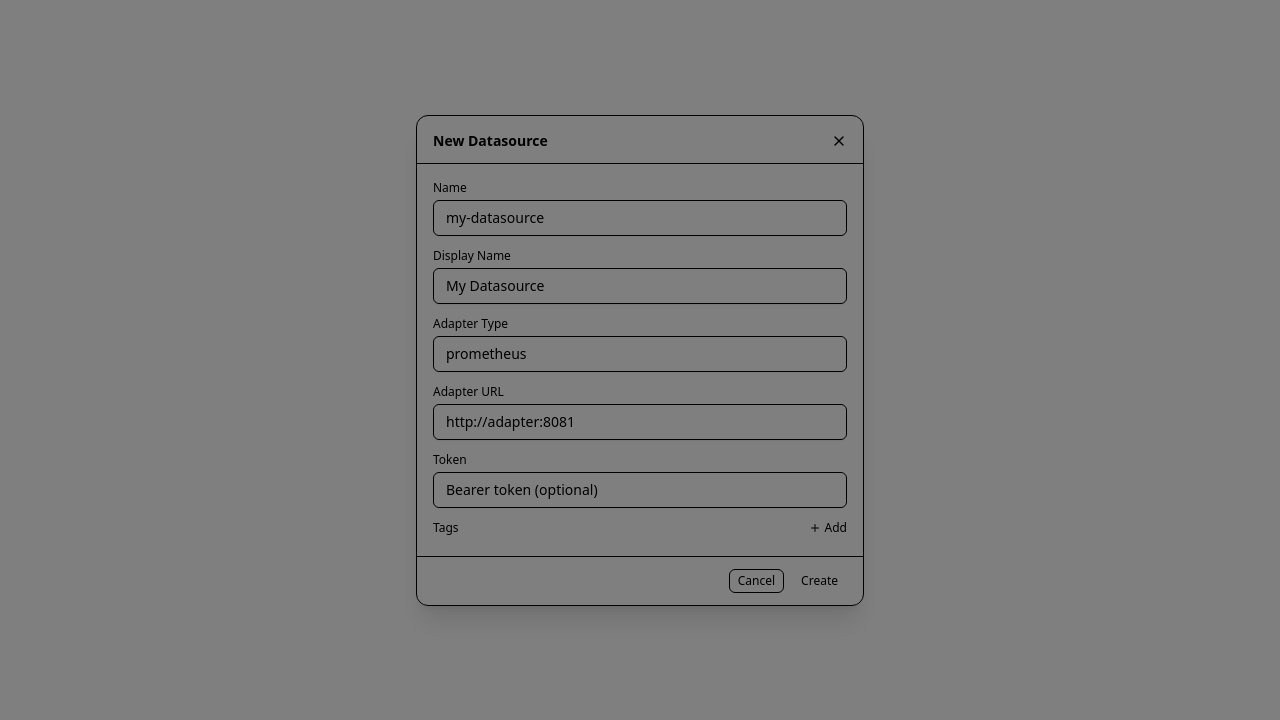
DatasourceForm › shows validation errors for required fields
The width and height of the screenshot is (1280, 720).
Click the button "Create" at (820, 580), box [792,568,847,592]
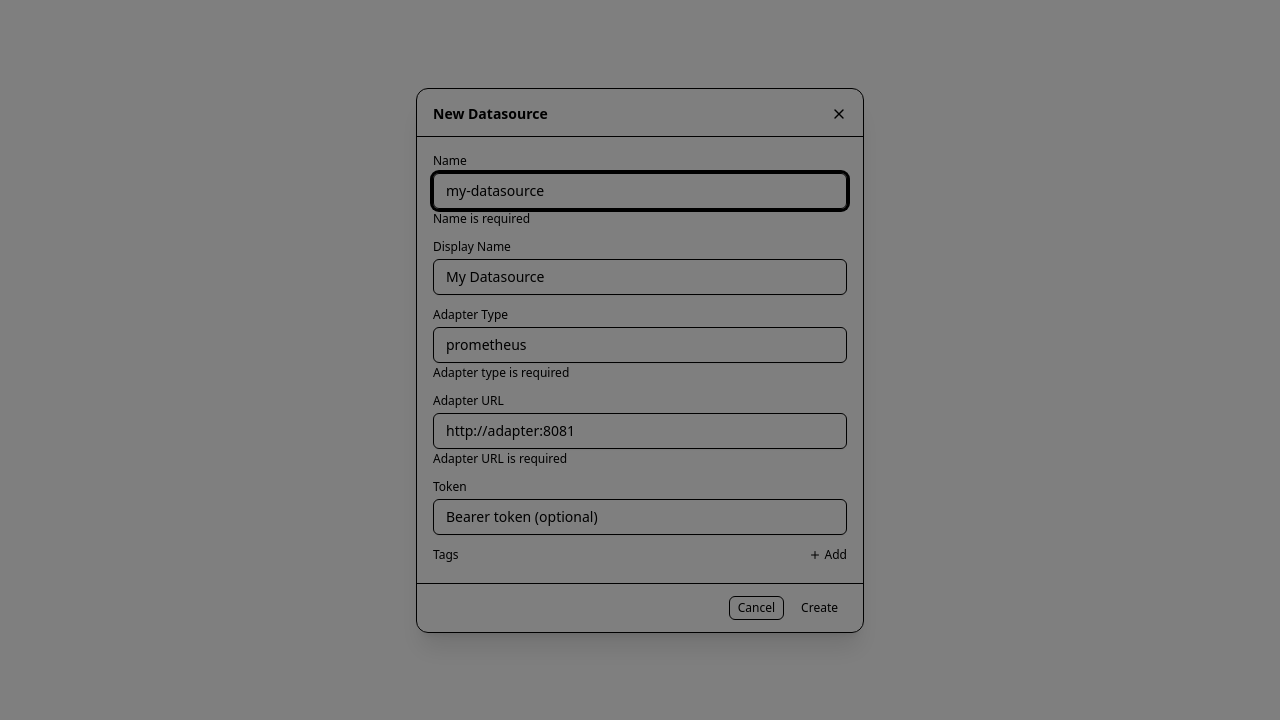
Now the text "Name is required" is shown, box [433,210,530,226]
